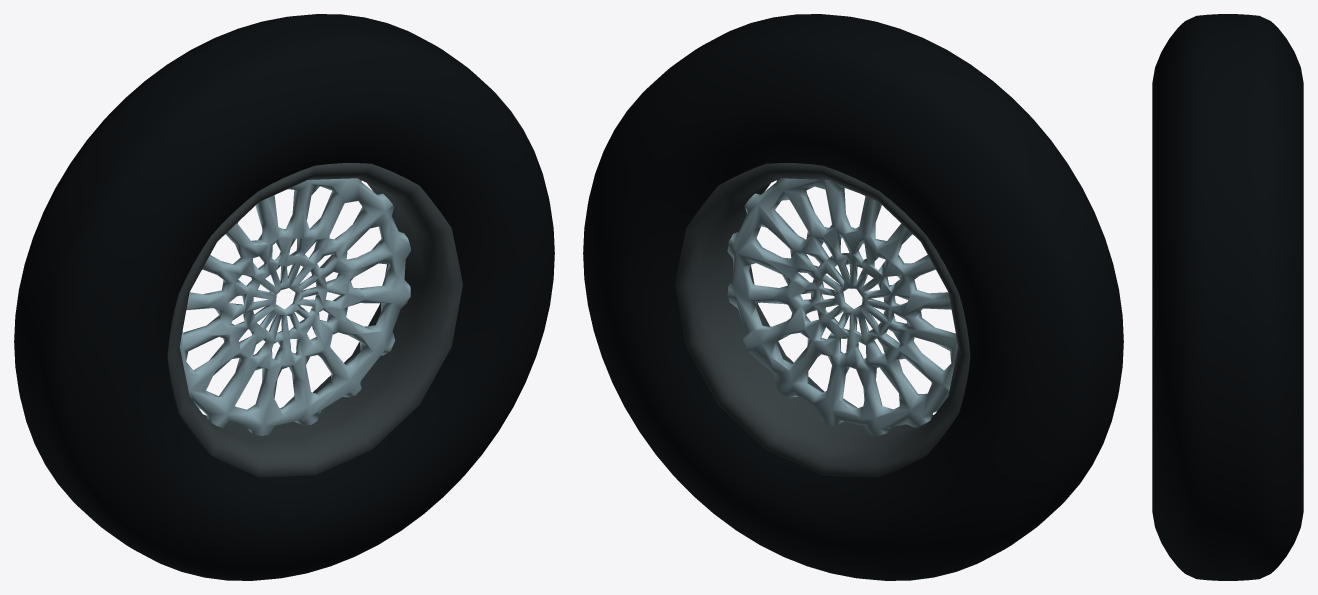
Rendered from LlantaDelantera.obj.
3 views of the same model, side by side, from view 1: azimuth 30°, elevation 25°; view 2: azimuth 150°, elevation 25°; view 3: azimuth 270°, elevation 25° (orthographic). The views are drawn at different scales.
Visible parts, largest first — view 1: Tire_Front_Torus.008, Rin_Circle.041, Ceja_Circle.029; view 2: Tire_Front_Torus.008, Rin_Circle.041, Ceja_Circle.029; view 3: Tire_Front_Torus.008.
Boxes of the visible parts, x1,y1,x2,y2 form: Tire_Front_Torus.008: (14, 14, 554, 580); Rin_Circle.041: (179, 178, 410, 435); Ceja_Circle.029: (167, 163, 462, 477); Tire_Front_Torus.008: (583, 14, 1123, 580); Rin_Circle.041: (727, 178, 958, 435); Ceja_Circle.029: (675, 163, 970, 477); Tire_Front_Torus.008: (1152, 14, 1303, 580).
Bounding box in the file's own units: 1.57 × 1.57 × 0.4186.
